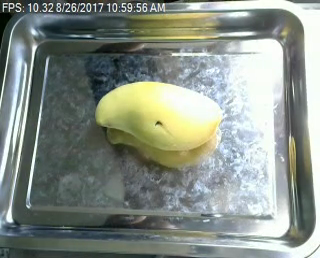Mango: (93, 80, 225, 151)
